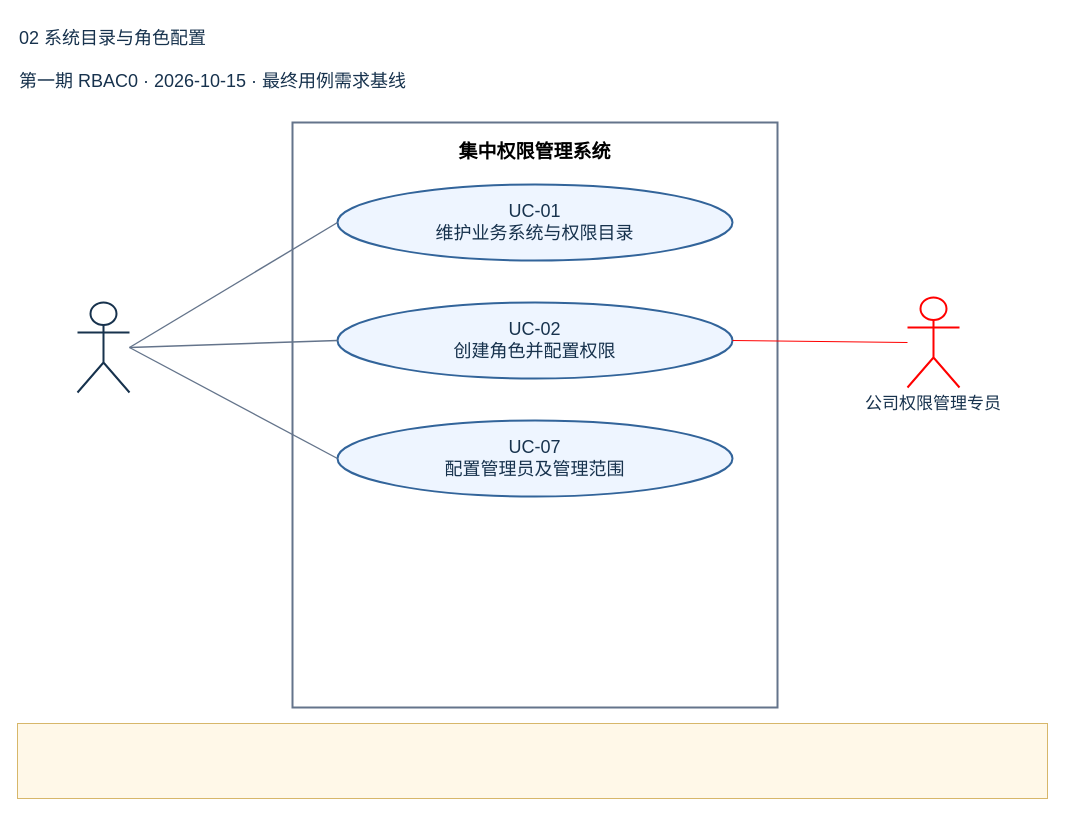
The diagram is 1065 pixels wide and 816 high, and some of its shapes have lost their labels. The shapes that lost their labels are listed below. From the top down, each one's centre as x and y in pixels, then its label:
At point (103, 347): "权限中心总管理员".
At point (532, 760): "角色属于一个公司及一个系统，可限定部门；部门角色仅适用直接任职，岗位不自动绑定。 权限项登记独立功能操作；角色只配置是否授予；后台资格与业务权限分离。".
